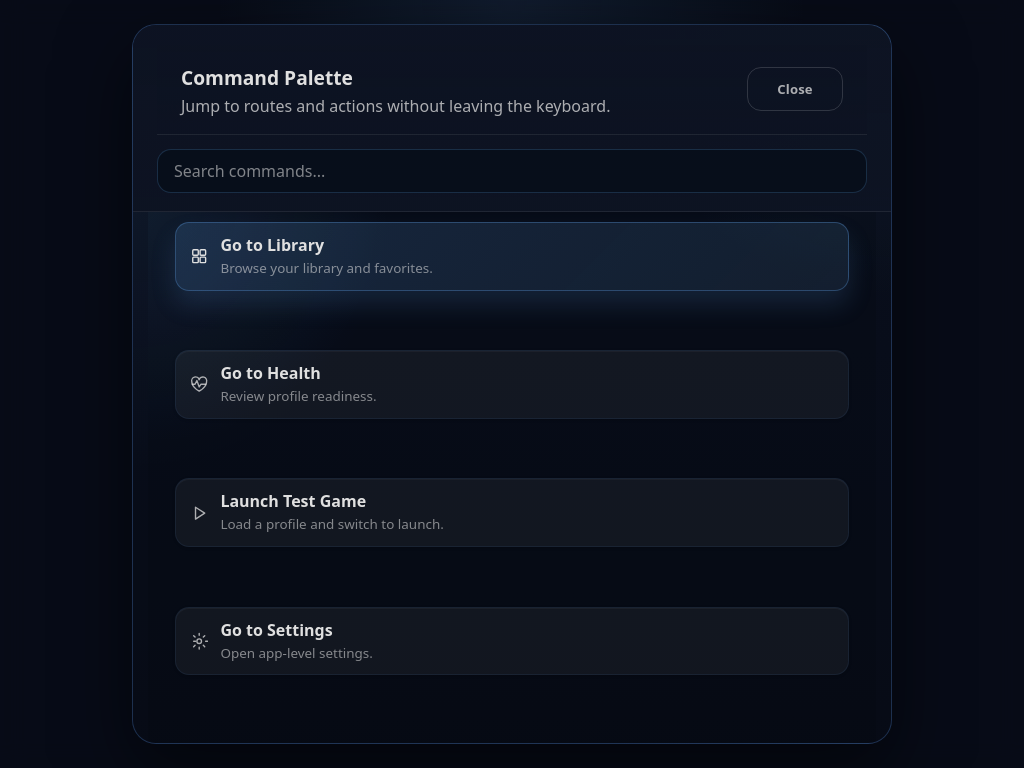
Test: CommandPalette › filters command results with substring input
Step 1. Type "set" into the search field labelled "Search commands" → (512, 171), box [157,149,867,193]
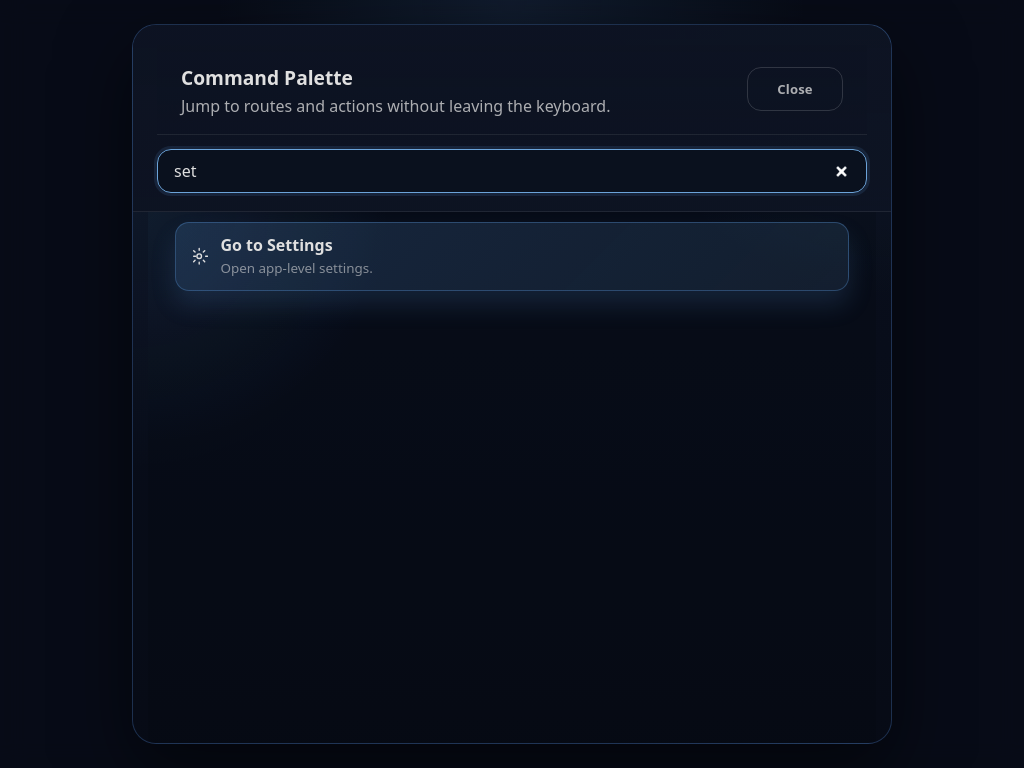
Expected: the button "Go to Settings Open app-level settings." is shown, [175,222,849,290]
Expected: the button "Go to Library" is gone
Expected: the button "Go to Health" is gone
